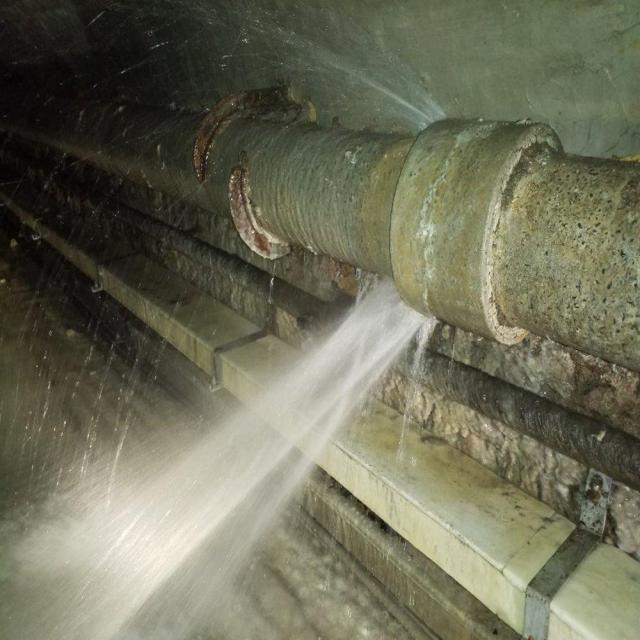leak: (10, 283, 429, 636), (0, 2, 445, 134)
